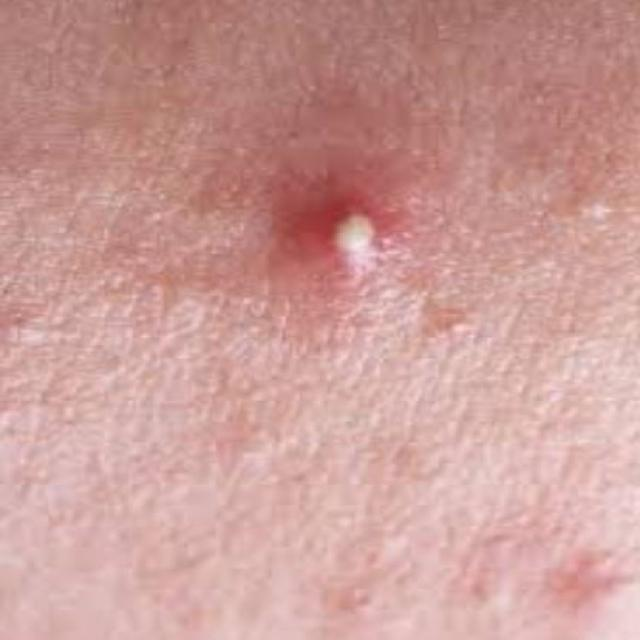pustule: (288, 175, 401, 301)
